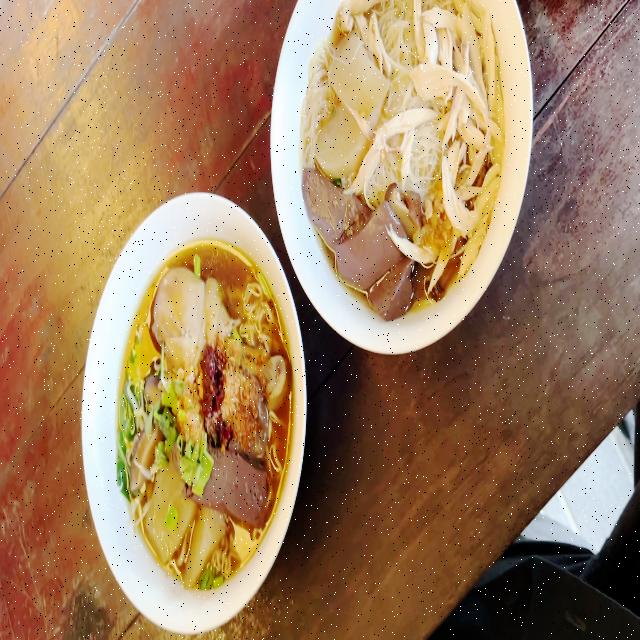boiled_chicken_blood_jelly: (336, 193, 396, 287), (213, 450, 267, 528), (298, 170, 357, 234), (377, 254, 415, 314)
chicken_drumstick: (151, 266, 287, 408)
chicken_shredded: (423, 0, 507, 270), (353, 109, 436, 192), (336, 0, 382, 27)
daikon_radish: (333, 36, 384, 126), (314, 98, 364, 175), (153, 465, 186, 559), (188, 502, 214, 582)
noodle: (297, 0, 511, 314), (106, 250, 299, 582)
